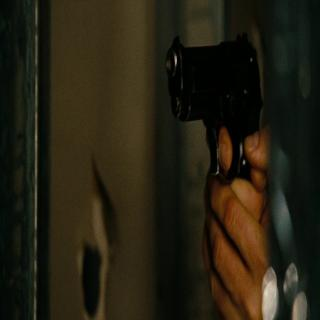gun: (164, 29, 272, 310)
